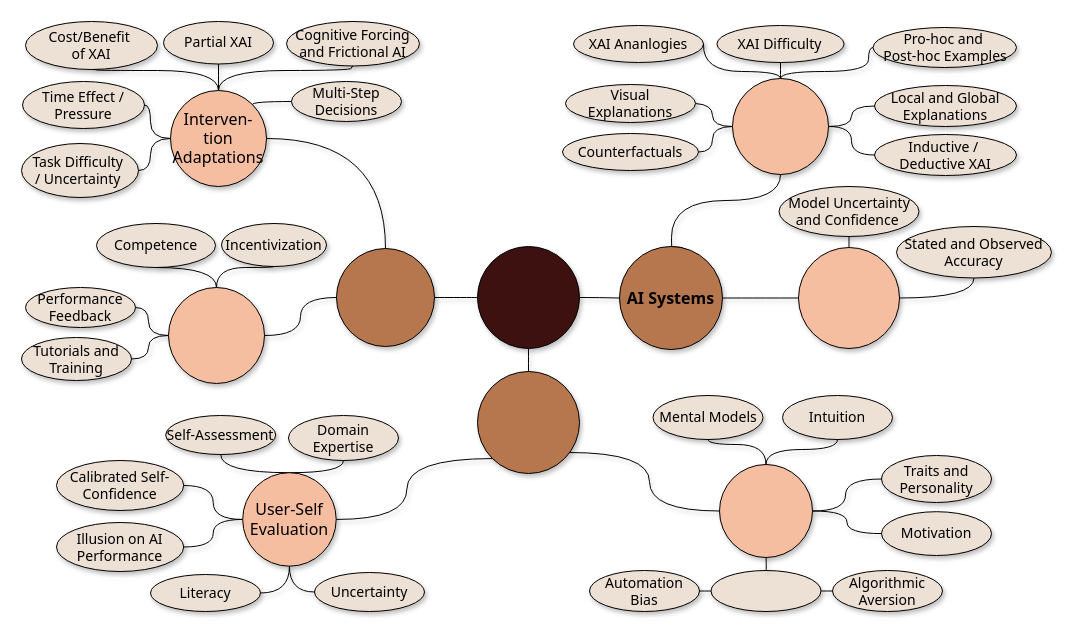
Some shapes in this 1075 by 636 pixel diagram are drawn without their labels. Here are the shapes that lost their labels. From the top down, the centre of each, then its label:
the point at 781,128: XAI
the point at 386,299: Interaction Factors
the point at 529,299: Methods
the point at 850,299: Performance Factors
the point at 217,336: Motivating Adaptations
the point at 529,423: User Factors
the point at 766,512: Cognitive Factors
the point at 766,592: Cognitive Biases
